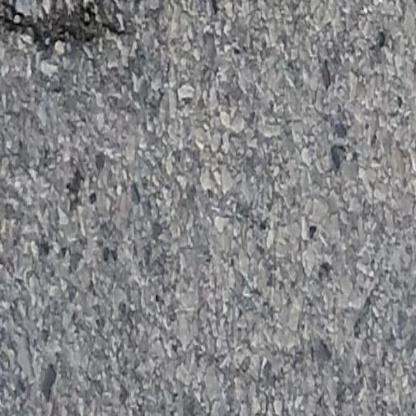Cracks: (0, 0, 123, 48)
